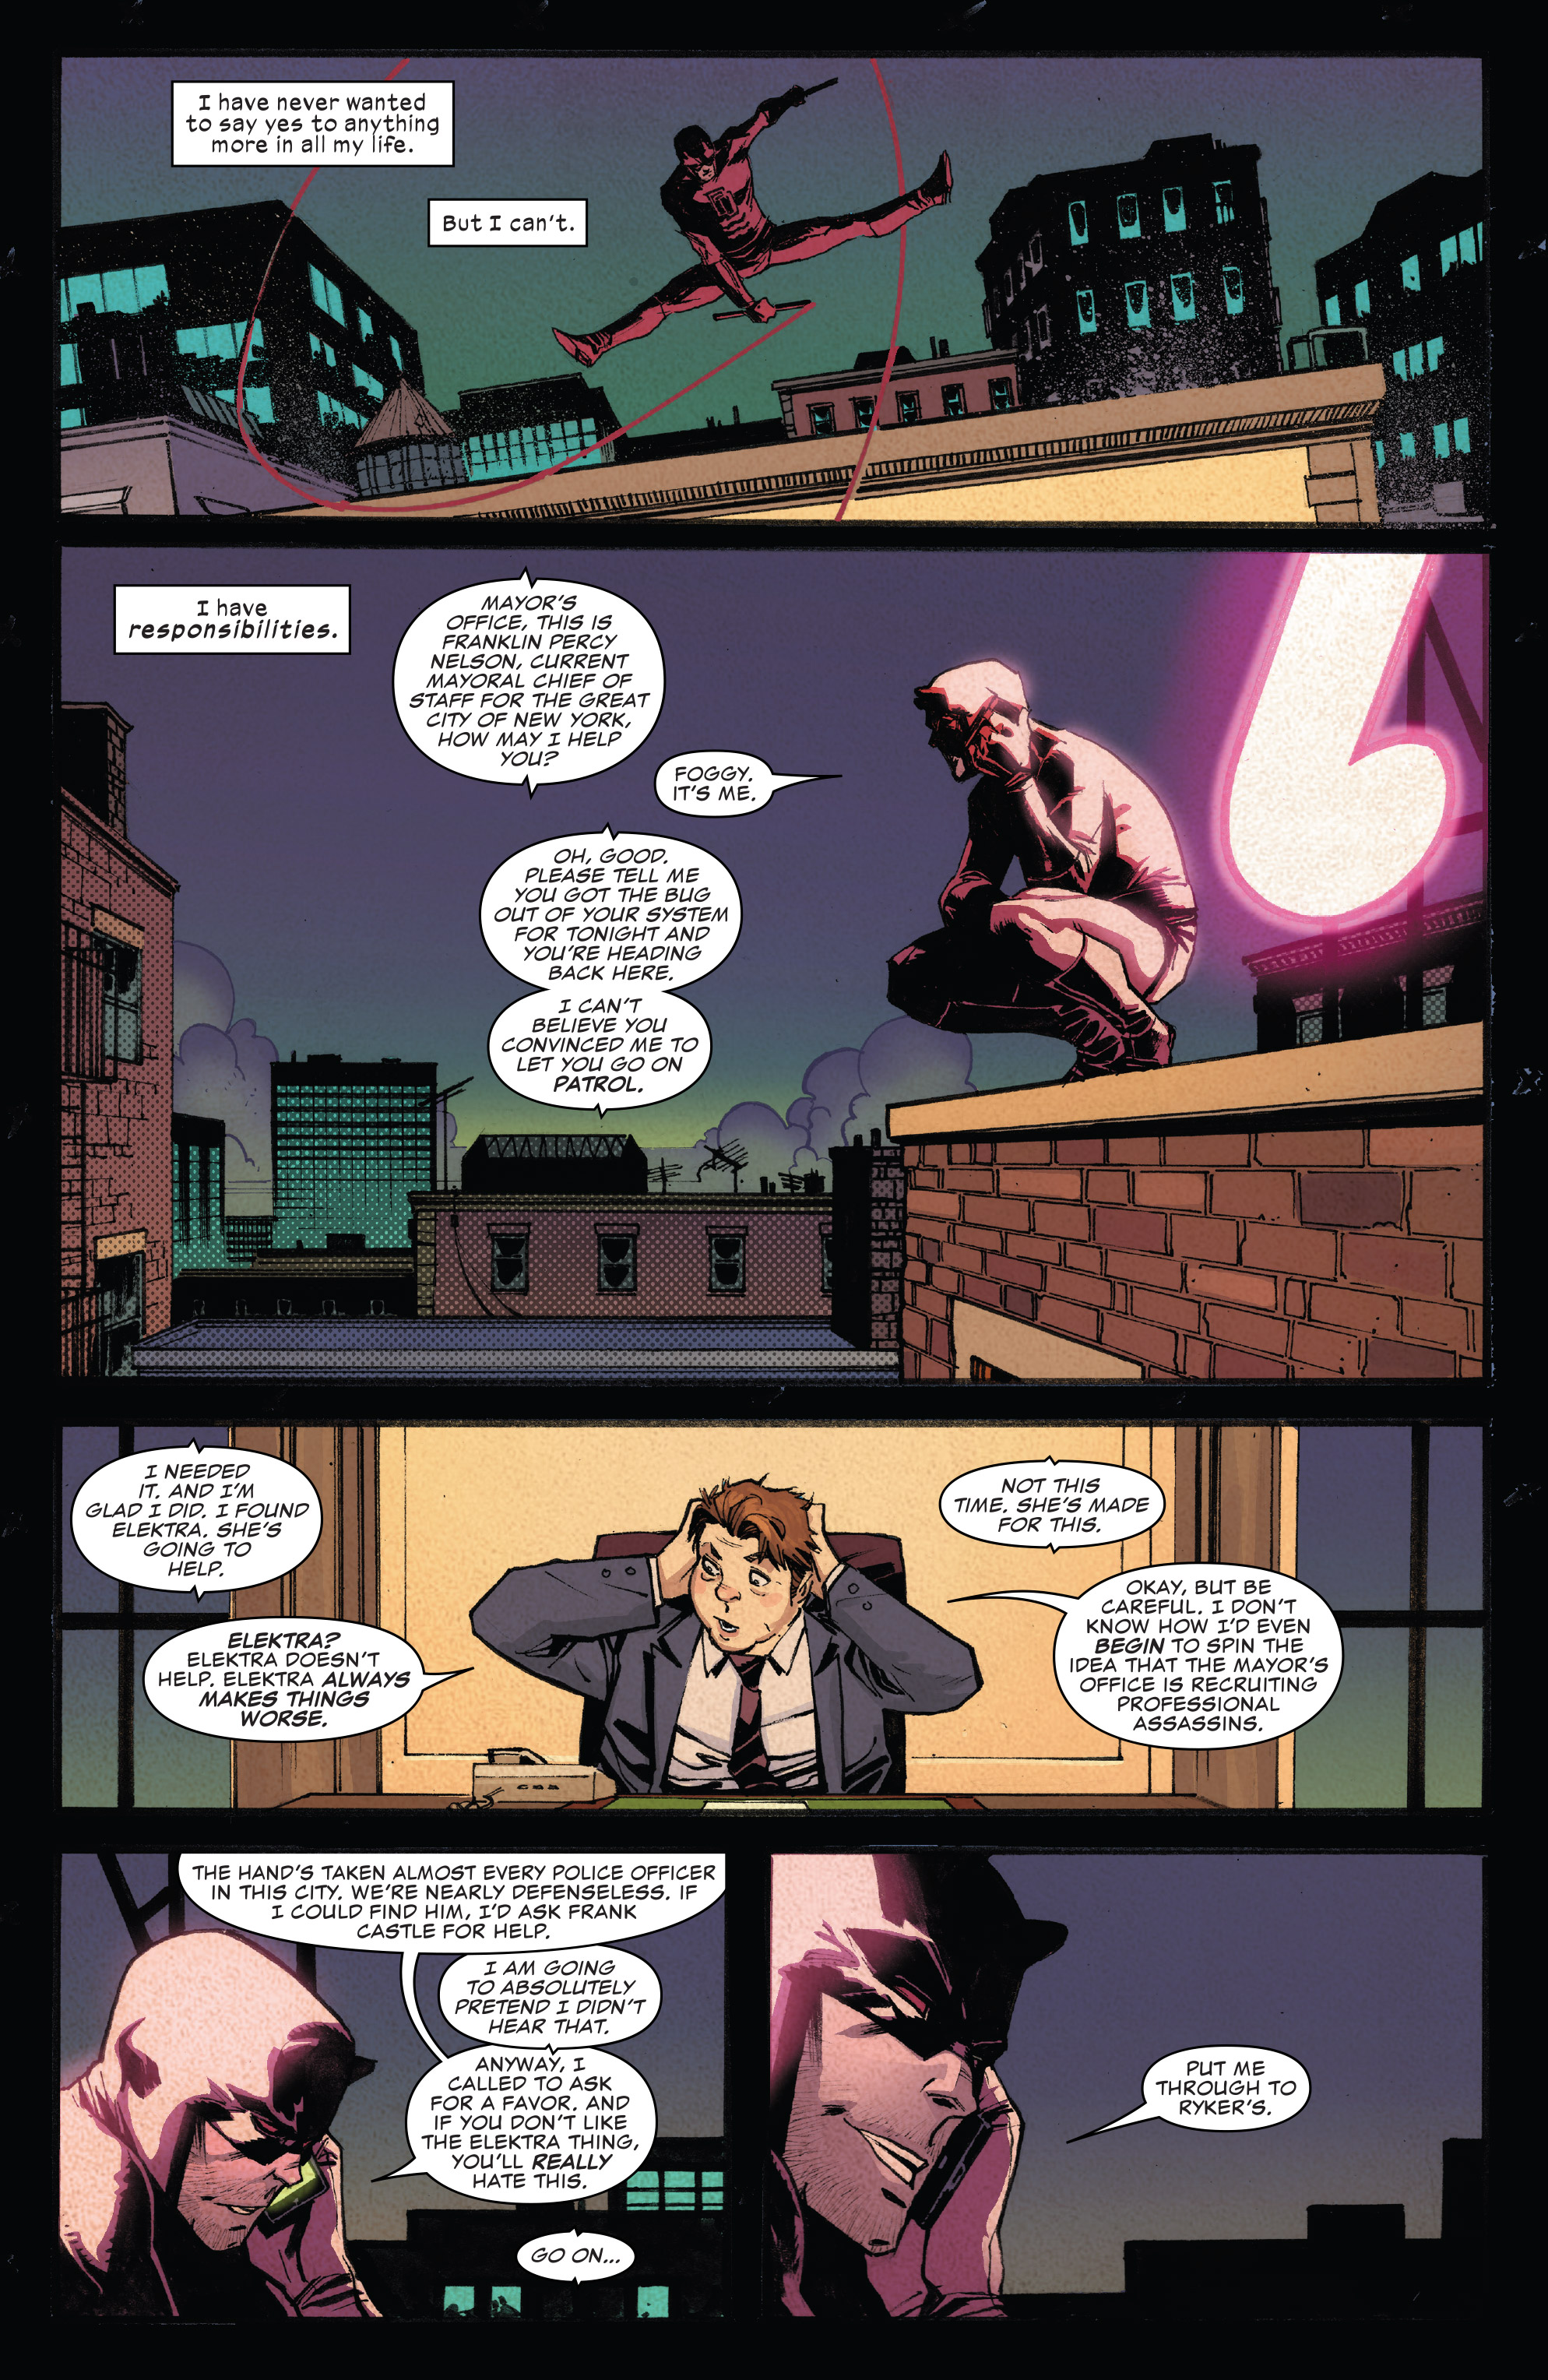Baloon: (943, 1568, 1369, 1749), (484, 838, 742, 1105), (172, 1835, 735, 1953), (397, 571, 664, 793), (394, 2045, 664, 2205), (64, 1445, 315, 1594), (149, 1620, 465, 1738), (435, 1934, 680, 2045), (1080, 2045, 1335, 2151), (931, 1450, 1165, 1559), (172, 80, 449, 167), (113, 585, 348, 656), (645, 755, 839, 810), (501, 2227, 645, 2295), (426, 191, 582, 245)
Vignetta: (49, 545, 1491, 1374), (61, 54, 1494, 545), (52, 1431, 1484, 1813), (768, 1849, 1484, 2351), (45, 1854, 732, 2328)
